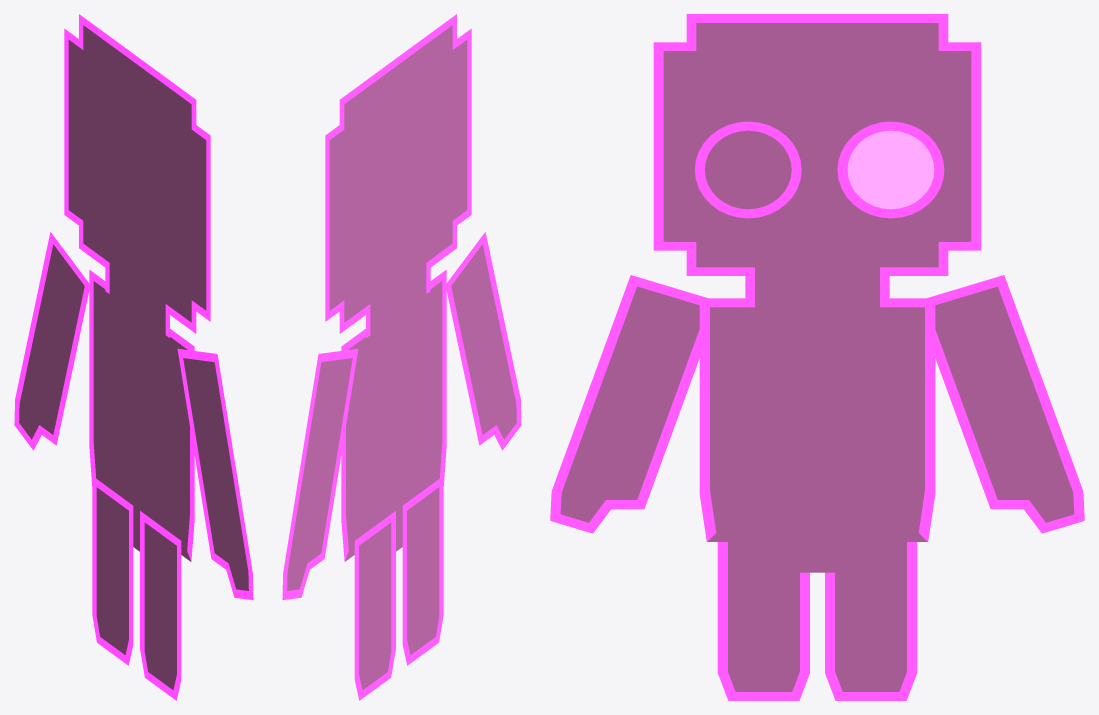
Rendered from EMPTY (Front).fbx.
The picture shows the model from 3 angles, left to right: view 1: azimuth 30°, elevation 25°; view 2: azimuth 150°, elevation 25°; view 3: azimuth 270°, elevation 25°; orthographic projection. The views are drawn at different scales.
Visible parts, largest first — view 1: Plane.106, Plane.109, Plane.073, Plane.110; view 2: Plane.106, Plane.109, Plane.073, Plane.110; view 3: Plane.106, Plane.109, Plane.073, Plane.110, Cylinder, Cylinder.001.
Boxes of the visible parts, bbox=[...] form: Plane.106: bbox=[64, 14, 210, 337]; Plane.109: bbox=[89, 270, 194, 561]; Plane.073: bbox=[14, 232, 253, 600]; Plane.110: bbox=[92, 476, 181, 700]; Plane.106: bbox=[325, 14, 471, 337]; Plane.109: bbox=[341, 270, 446, 561]; Plane.073: bbox=[282, 232, 521, 600]; Plane.110: bbox=[354, 476, 443, 700]; Plane.106: bbox=[653, 14, 981, 298]; Plane.109: bbox=[699, 298, 935, 572]; Plane.073: bbox=[550, 275, 1084, 533]; Plane.110: bbox=[717, 542, 917, 700]; Cylinder: bbox=[837, 121, 944, 218]; Cylinder.001: bbox=[695, 121, 801, 218].
Size of the model in its own units: 5.51 by 410 by 289.
